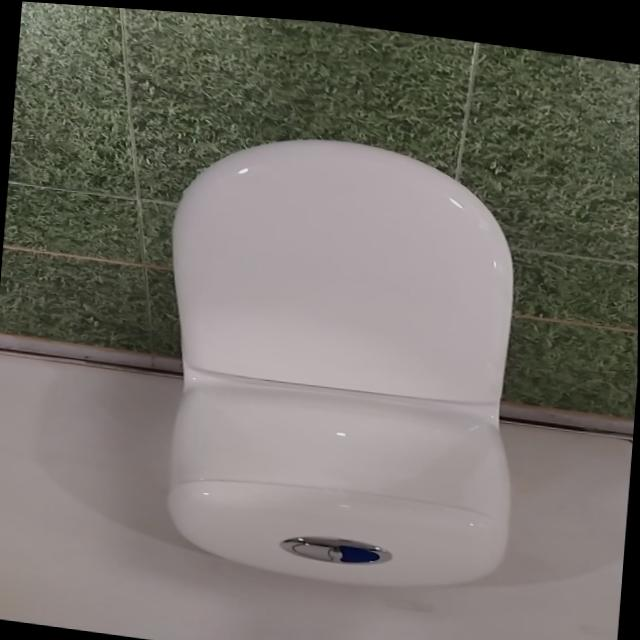toilet: (145, 114, 538, 600)
